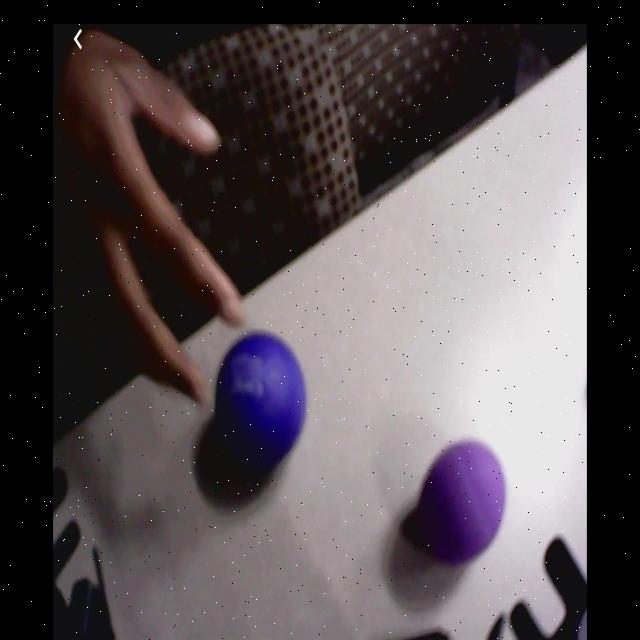ball: (217, 332, 307, 464), (419, 438, 506, 561)
